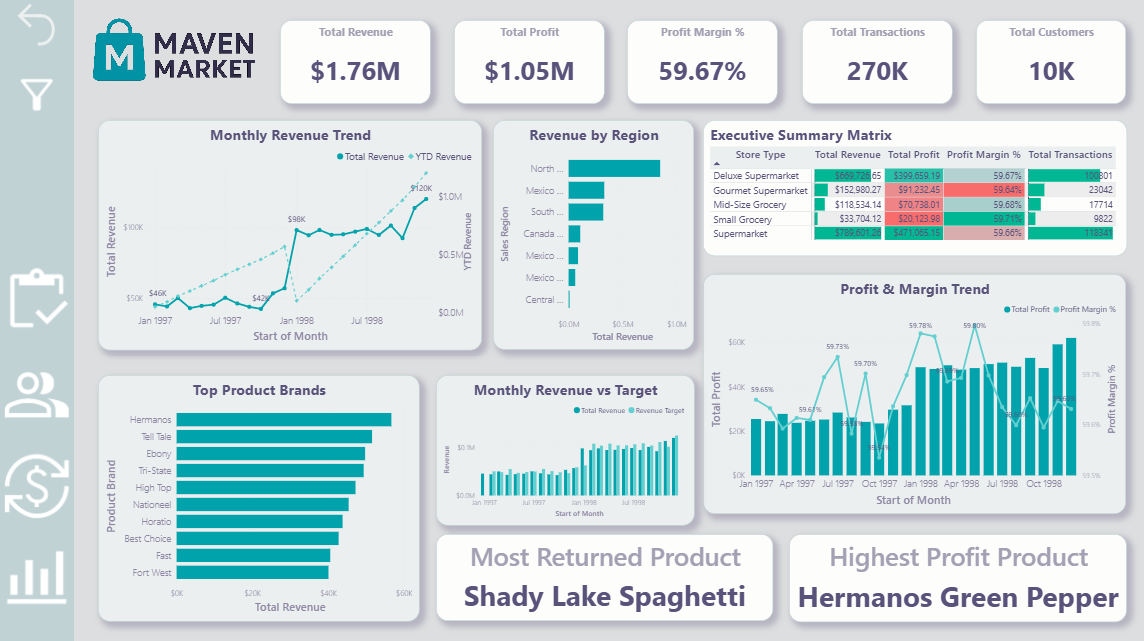

The page's visual inventory and layout, read from the dashboard file:
{"tool":"powerbi","page":{"name":"Executive Summary","canvas":[1920,1080],"ordinal":0},"visuals":[{"type":"shape","box":[0,0,125,1080],"z":0,"group":"g1"},{"type":"image","box":[64.5,0,451.5,183.6],"z":0},{"type":"card","title":"Total Revenue","fields":{"Values":["Measure Table.Total Revenue"]},"box":[468.5,34.6,250.7,140.2],"z":1000},{"type":"actionButton","box":[0,902,126,126],"z":1000,"group":"g1"},{"type":"lineChart","title":"Monthly Revenue Trend","fields":{"Category":["Calendar.Custom Date Hierarchy.Start of Month"],"Y":["Measure Table.Total Revenue"],"Y2":["Measure Table.YTD Revenue"]},"box":[164.9,201.2,640,384.3],"z":2000},{"type":"actionButton","box":[0,750,126,124],"z":2000,"group":"g1"},{"type":"card","title":"Total Profit","fields":{"Values":["Measure Table.Total Profit"]},"box":[758.8,34.6,250.7,140.2],"z":3000},{"type":"actionButton","box":[0,596,126,124],"z":3000,"group":"g1"},{"type":"card","title":"Profit Margin %","fields":{"Values":["Measure Table.Profit Margin %"]},"box":[1047.4,34.6,250.7,140.2],"z":4000},{"type":"actionButton","box":[0,440,126,126],"z":4000,"group":"g1"},{"type":"card","title":"Total Customers","fields":{"Values":["Measure Table.Total Customers"]},"box":[1628.3,35,250,140],"z":5000},{"type":"actionButton","box":[0,116,126,86],"z":5000,"group":"g1"},{"type":"actionButton","box":[0,0,125,85],"z":6000,"group":"g1"},{"type":"card","title":"Total Transactions","fields":{"Values":["Measure Table.Total Transactions"]},"box":[1337.7,34.6,250.7,140.2],"z":6000},{"type":"lineClusteredColumnComboChart","title":"Profit & Margin Trend","fields":{"Category":["Calendar.Custom Date Hierarchy.Start of Month"],"Y":["Measure Table.Total Profit"],"Y2":["Measure Table.Profit Margin %"]},"box":[1173.3,458.3,705,400],"z":7000},{"type":"clusteredColumnChart","title":"Monthly Revenue vs Target","fields":{"Category":["Calendar.Custom Date Hierarchy.Start of Month","Calendar.Custom Date Hierarchy.Start of Quarter","Calendar.Custom Date Hierarchy.Start of Week","Calendar.Custom Date Hierarchy.Start of Year"],"Y":["Measure Table.Total Revenue","Measure Table.Revenue Target"]},"box":[729.1,626.8,430.5,250.7],"z":8000},{"type":"clusteredBarChart","title":"Revenue by Region","fields":{"Category":["Regions.sales_region"],"Y":["Measure Table.Total Revenue"]},"box":[823.3,201.7,335,383.3],"z":9000},{"type":"pivotTable","title":"Executive Summary Matrix","fields":{"Rows":["Stores.store_type"],"Values":["Measure Table.Total Revenue","Measure Table.Total Profit","Measure Table.Profit Margin %","Measure Table.Total Transactions"]},"box":[1173.3,201.7,706.7,226.7],"z":10000},{"type":"clusteredBarChart","title":"Top Product Brands","fields":{"Category":["Products.product_brand"],"Y":["Measure Table.Total Revenue"]},"box":[164.9,626.8,536.1,410.7],"z":11000},{"type":"group","id":"g1","title":"Group 1","box":[0,0,126.8,1080],"z":12000},{"type":"card","title":"Highest Profit Product","fields":{"Values":["Min(Products.product_name)"]},"box":[1316.7,891.7,563.3,146.7],"z":13000},{"type":"card","title":"Most Returned Product","fields":{"Values":["Min(Products.product_name)"]},"box":[729.1,892.4,562.5,145.2],"z":14000}]}

Visuals, with their boxes in screenshot pixels (x1, y1, x2, y2), scaled from the page's 1920x1080 canvas onto the 1144x641 screenshot:
shape: 0, 0, 74, 640
image: 38, 0, 307, 109
"Total Revenue" card: 279, 21, 429, 104
actionButton: 0, 535, 75, 610
"Monthly Revenue Trend" lineChart: 98, 119, 480, 348
actionButton: 0, 445, 75, 519
"Total Profit" card: 452, 21, 601, 104
actionButton: 0, 354, 75, 427
"Profit Margin %" card: 624, 21, 773, 104
actionButton: 0, 261, 75, 336
"Total Customers" card: 970, 21, 1119, 104
actionButton: 0, 69, 75, 120
actionButton: 0, 0, 74, 50
"Total Transactions" card: 797, 21, 946, 104
"Profit & Margin Trend" lineClusteredColumnComboChart: 699, 272, 1119, 509
"Monthly Revenue vs Target" clusteredColumnChart: 434, 372, 691, 521
"Revenue by Region" clusteredBarChart: 491, 120, 690, 347
"Executive Summary Matrix" pivotTable: 699, 120, 1120, 254
"Top Product Brands" clusteredBarChart: 98, 372, 418, 616
"Group 1" group: 0, 0, 76, 640
"Highest Profit Product" card: 785, 529, 1120, 616
"Most Returned Product" card: 434, 530, 770, 616
